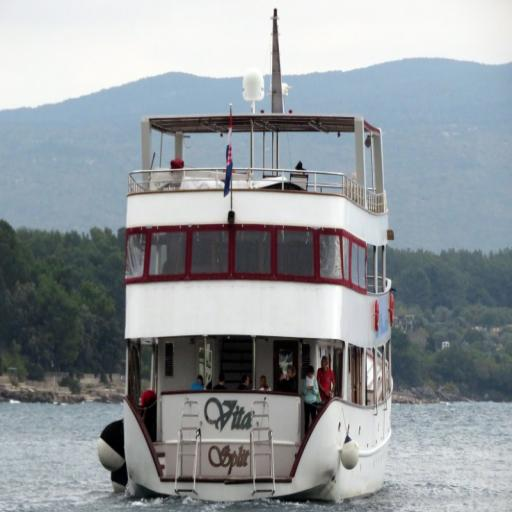cruises: (98, 106, 403, 510)
